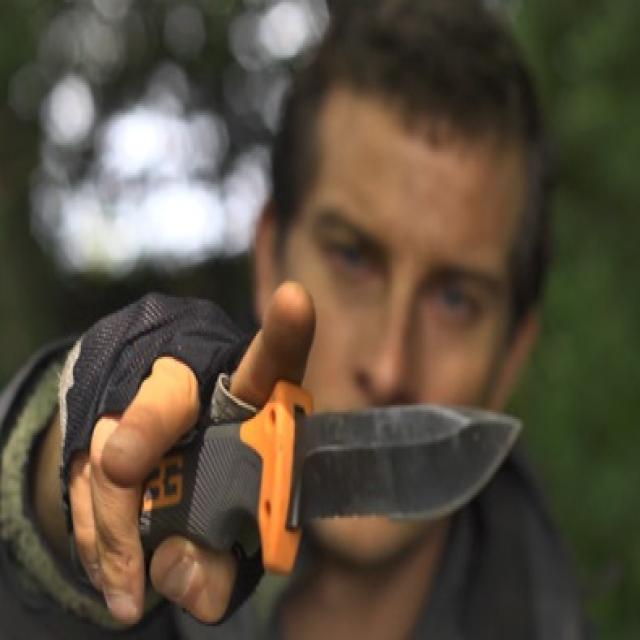knife: (136, 388, 528, 578)
